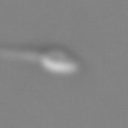normal: (1, 44, 45, 65)
